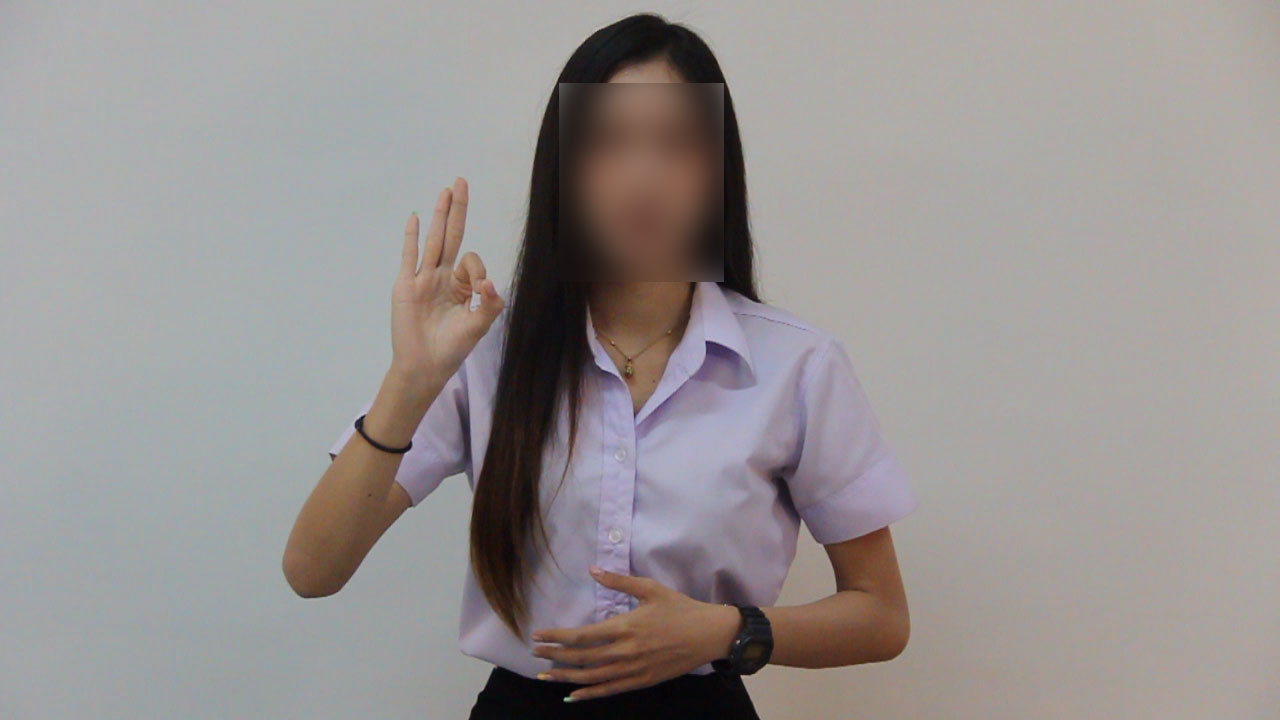for: (366, 168, 513, 393)
